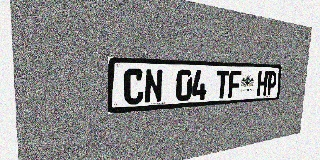0: (176, 69, 192, 102)
4: (191, 70, 207, 100)
C: (123, 68, 144, 105)
F: (228, 70, 241, 98)
H: (256, 71, 268, 96)
N: (144, 69, 163, 104)
P: (266, 71, 277, 95)
T: (215, 70, 229, 99)
